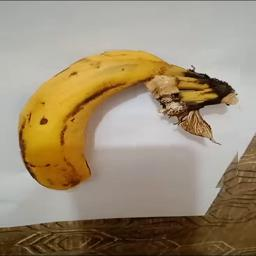Banana Semifresh: (19, 50, 240, 195)
